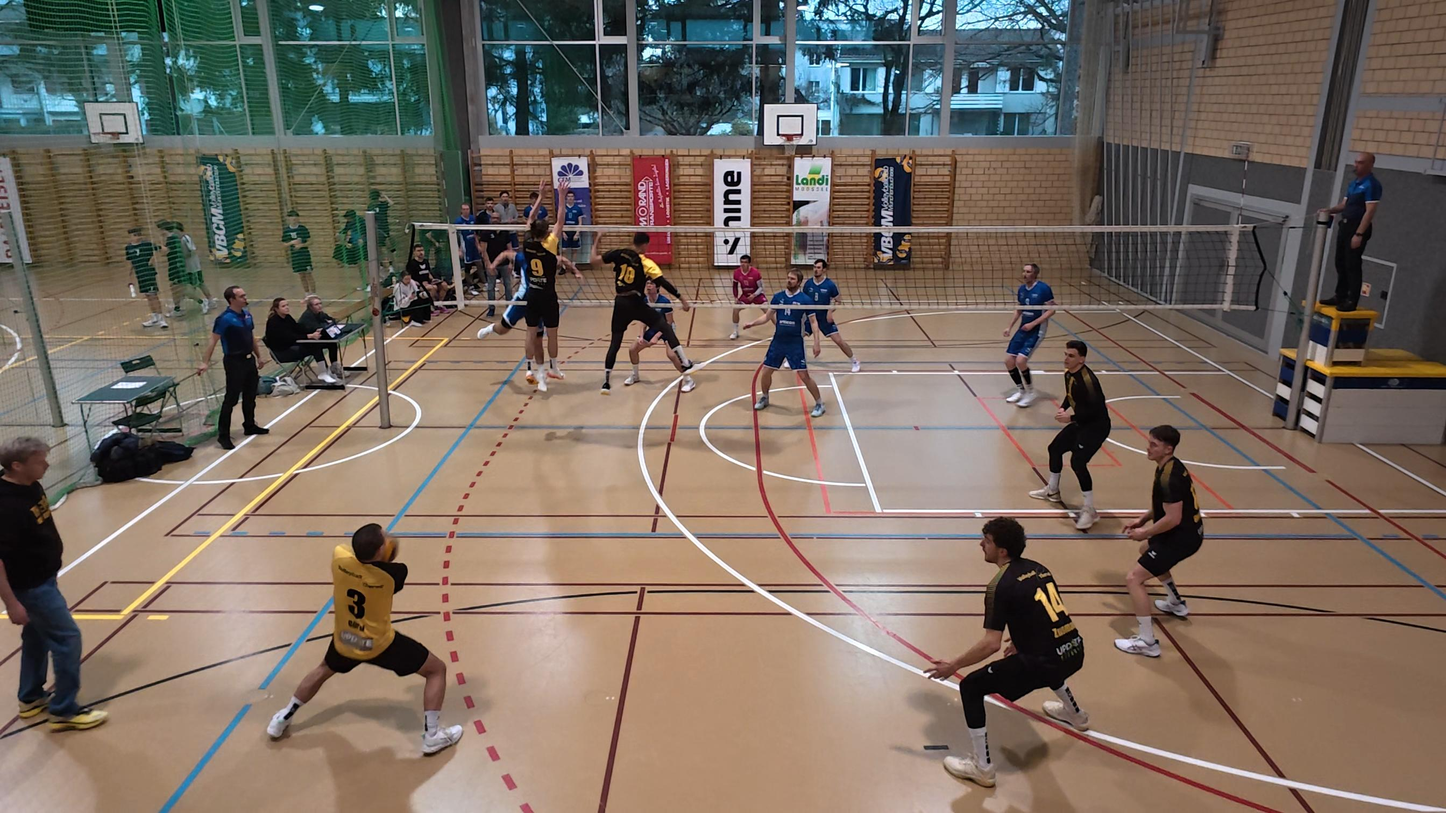difesa: (260, 519, 467, 760)
muro: (511, 180, 576, 395)
